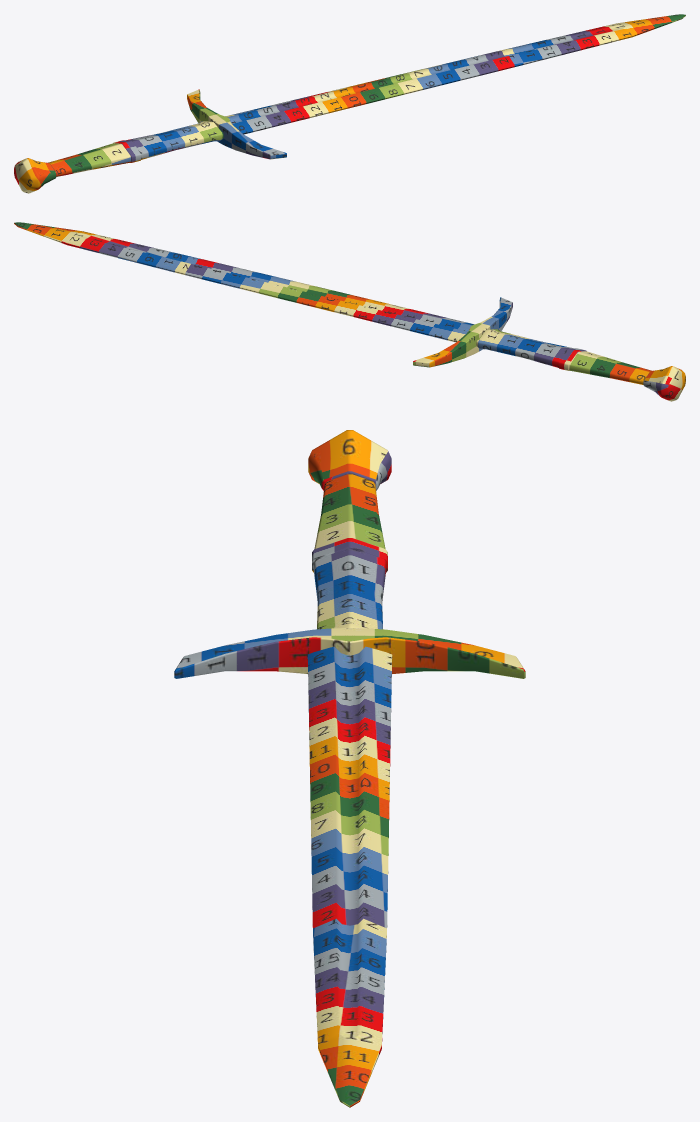
The model's file is SM_GreatSword.fbx.
3 views of the same model, one above another, from view 1: azimuth 30°, elevation 25°; view 2: azimuth 150°, elevation 25°; view 3: azimuth 270°, elevation 25° (orthographic). The views are drawn at different scales.
Parts seen in each view (by area): view 1: Blade, Hilt, CrossGuard, Pommel; view 2: Blade, Hilt, CrossGuard, Pommel; view 3: Blade, CrossGuard, Hilt, Pommel.
Part boxes in pixels (x1,y1,x2,y2): Blade: (225,14,685,134); Hilt: (47,121,223,176); CrossGuard: (187,89,286,159); Pommel: (14,158,56,193); Blade: (14,222,474,342); Hilt: (476,329,652,384); CrossGuard: (413,297,512,367); Pommel: (643,366,685,401); Blade: (307,646,392,1107); CrossGuard: (174,628,525,678); Hilt: (312,474,387,629); Pommel: (308,430,391,490).
Size of the model in its own units: 135 by 6.62 by 30.77.
1 material, 1 textured.
